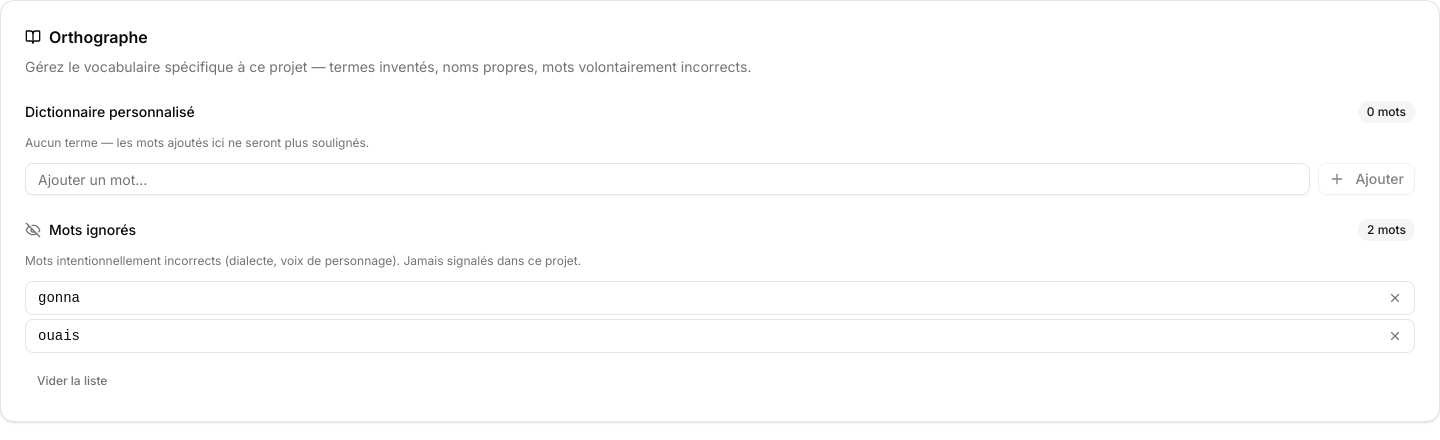
Test: SpellCheckSettingsCard › clears all ignored words on "Vider" click
Click the button "Vider la liste": point(72, 381) [25, 365, 119, 397]
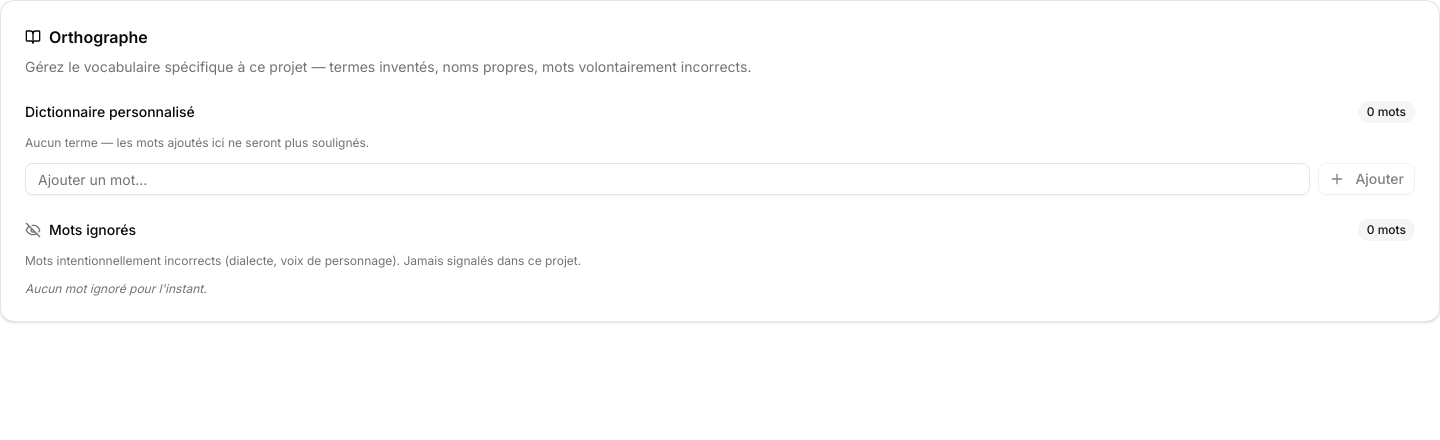
Result: the text "gonna" is gone
Result: the text "ouais" is gone
